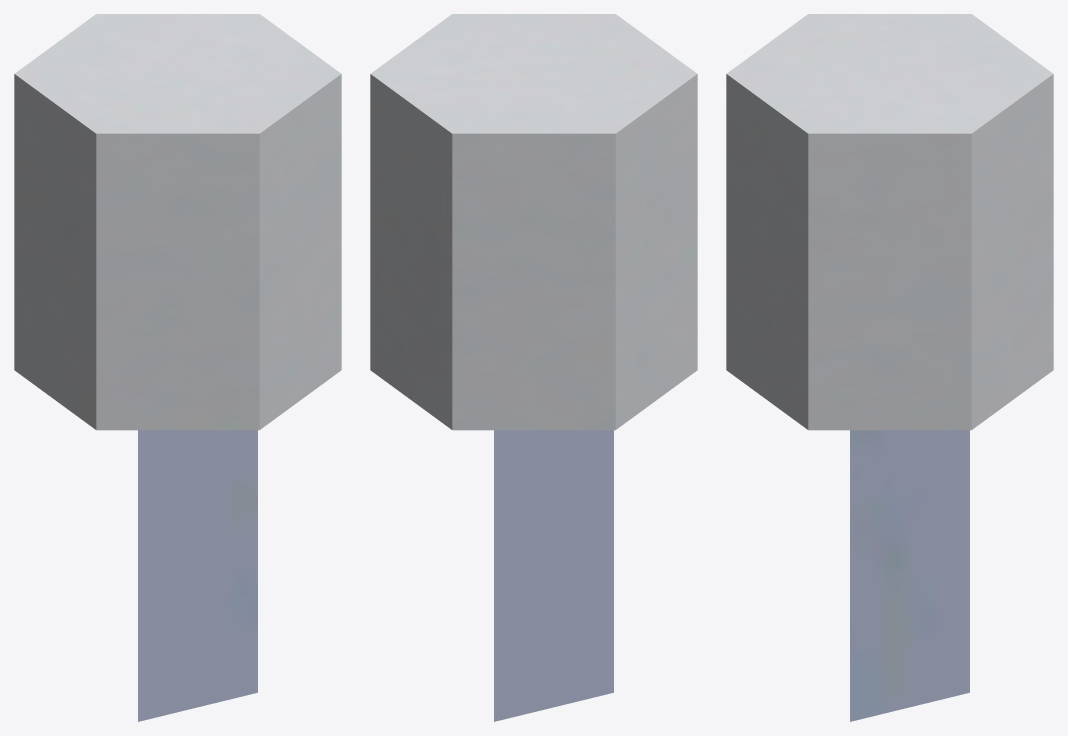
File: obstacle-light-steady-red-cbj_LOD01.gltf
The picture shows the model from 3 angles, left to right: view 1: azimuth 30°, elevation 25°; view 2: azimuth 150°, elevation 25°; view 3: azimuth 270°, elevation 25°; orthographic projection.
Visible parts, largest first — view 1: night.002; view 2: night.002; view 3: night.002.
Part boxes in pixels (<box>): night.002: <box>14,14,341,721</box>; night.002: <box>370,14,697,721</box>; night.002: <box>726,14,1053,721</box>.
Size of what is drawn, in the model's own units: 0.4741 by 1.14 by 0.5474.
